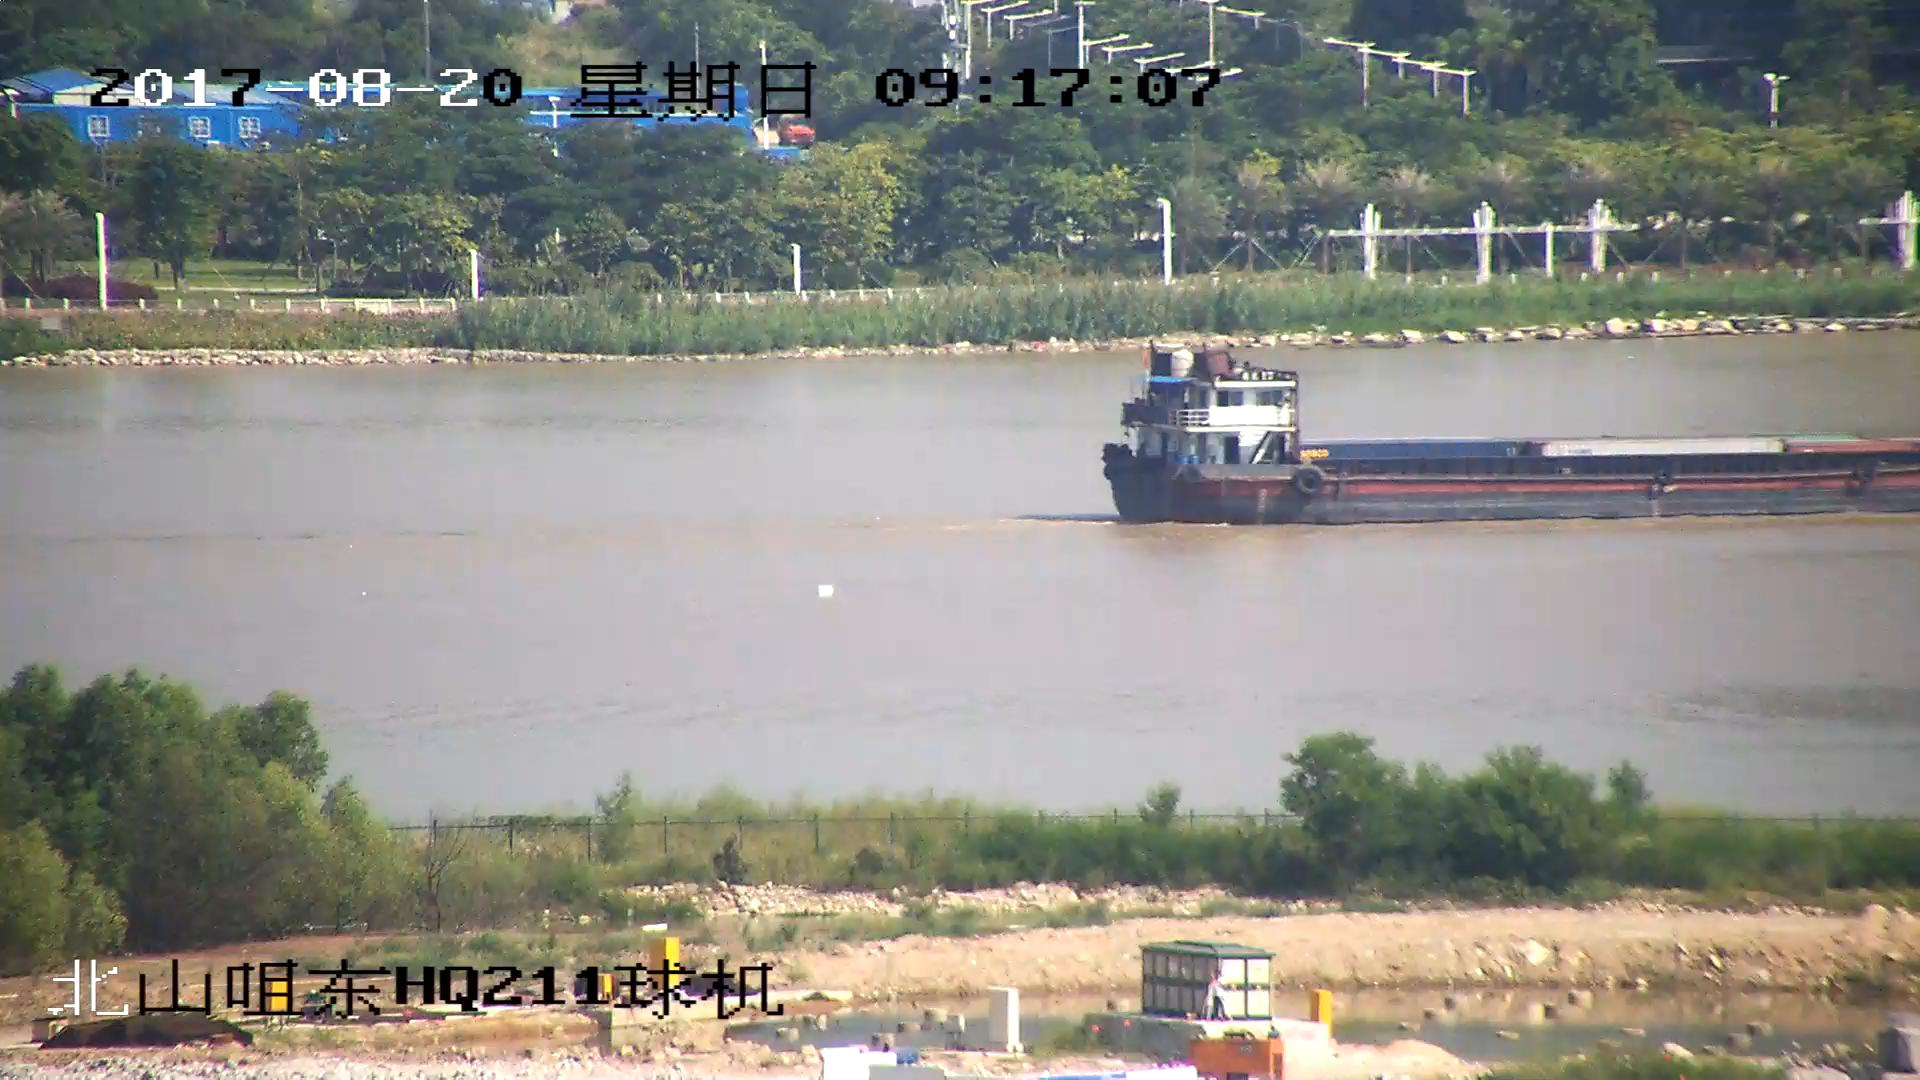general cargo ship: (1098, 343, 1920, 521)
